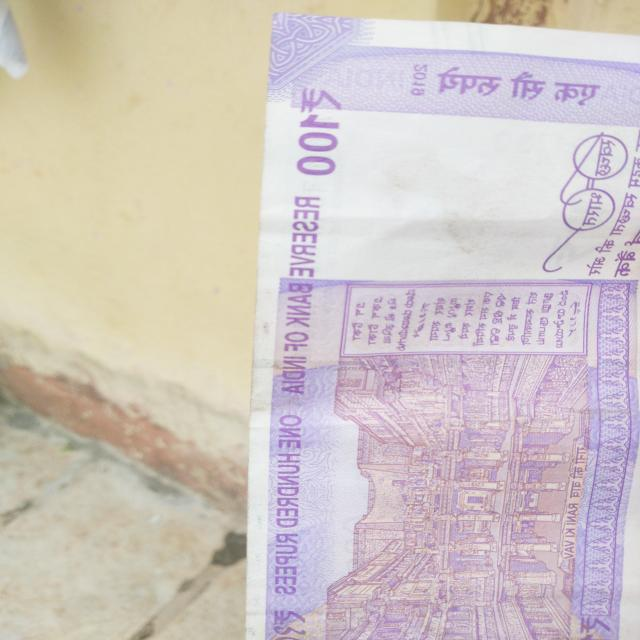100rs: (233, 34, 637, 640)
